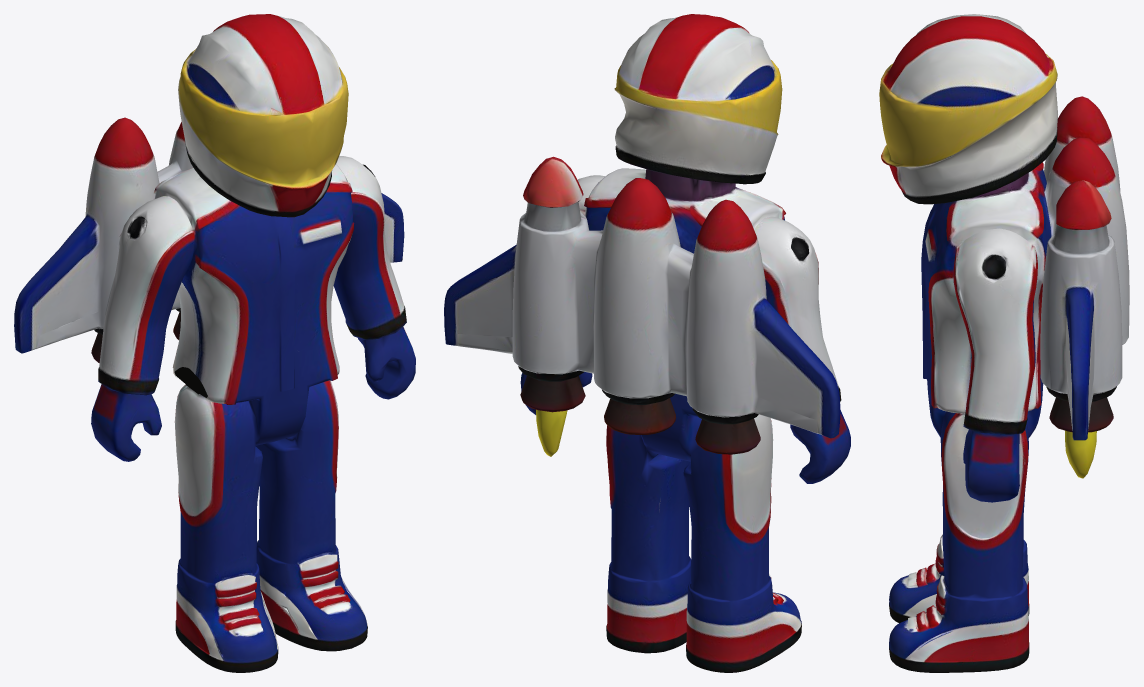
Rendered from jet.glb.
3 views of the same model, side by side, from view 1: azimuth 30°, elevation 25°; view 2: azimuth 150°, elevation 25°; view 3: azimuth 270°, elevation 25° (orthographic).
Visible parts, largest first — view 1: torso, head, legL, armL, legR, armR; view 2: torso, legL, head, legR, armL, armR; view 3: torso, head, armR, legR, legL.
Part boxes in pixels (x1,y1,x2,y2): torso: (14, 117, 404, 404); head: (178, 14, 348, 207); legL: (174, 384, 285, 672); armL: (91, 153, 216, 461); legR: (255, 380, 367, 651); armR: (331, 156, 415, 399); torso: (444, 85, 840, 456); legL: (661, 414, 801, 672); head: (614, 14, 782, 208); legR: (606, 425, 691, 653); armL: (744, 201, 850, 483); armR: (520, 168, 635, 414); torso: (897, 54, 1129, 478); head: (879, 14, 1045, 203); armR: (933, 211, 1056, 502); legR: (889, 388, 1042, 672); legL: (889, 492, 1029, 623).
Bounding box in the file's own units: 2.02 × 3.04 × 1.12.
Materials: 1 (1 with a texture image).
